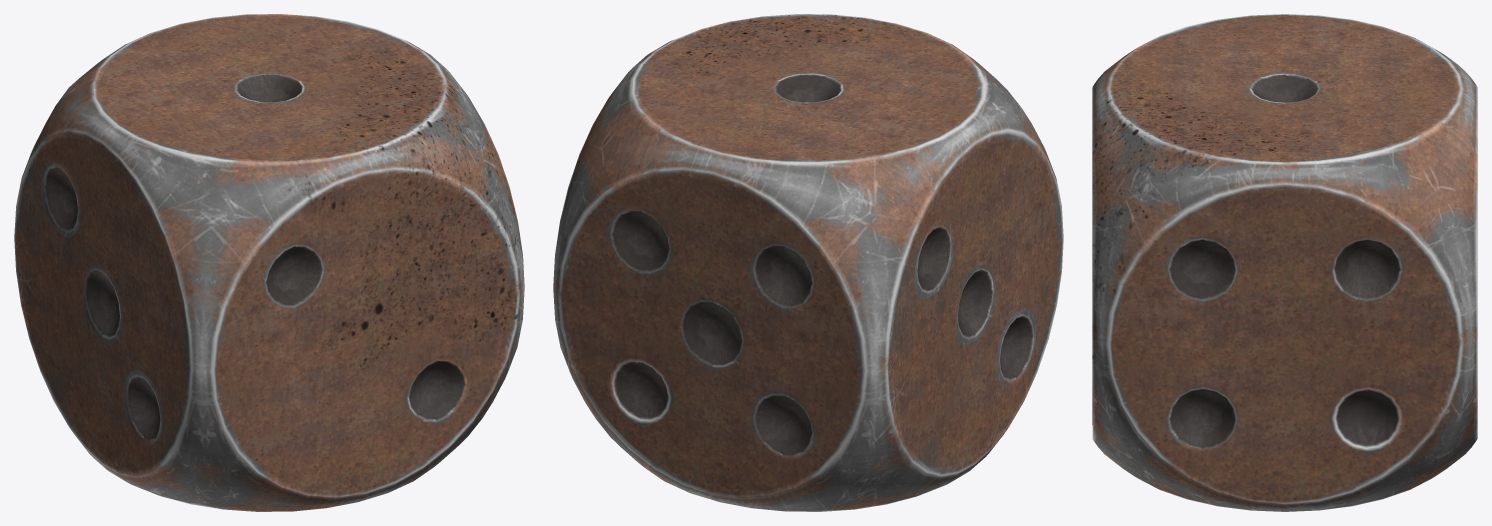
Rendered from rust_dice.glb.
3 renders of one model, left to right at view 1: azimuth 30°, elevation 25°; view 2: azimuth 150°, elevation 25°; view 3: azimuth 270°, elevation 25°, orthographic.
Visible parts, largest first — view 1: Object_2; view 2: Object_2; view 3: Object_2.
Part boxes in pixels (x1,y1,x2,y2): Object_2: (14,14,524,511); Object_2: (553,14,1063,511); Object_2: (1092,14,1477,511).
Bounding box in the file's own units: 3 × 3 × 3.
Materials: 1 (1 with a texture image).
